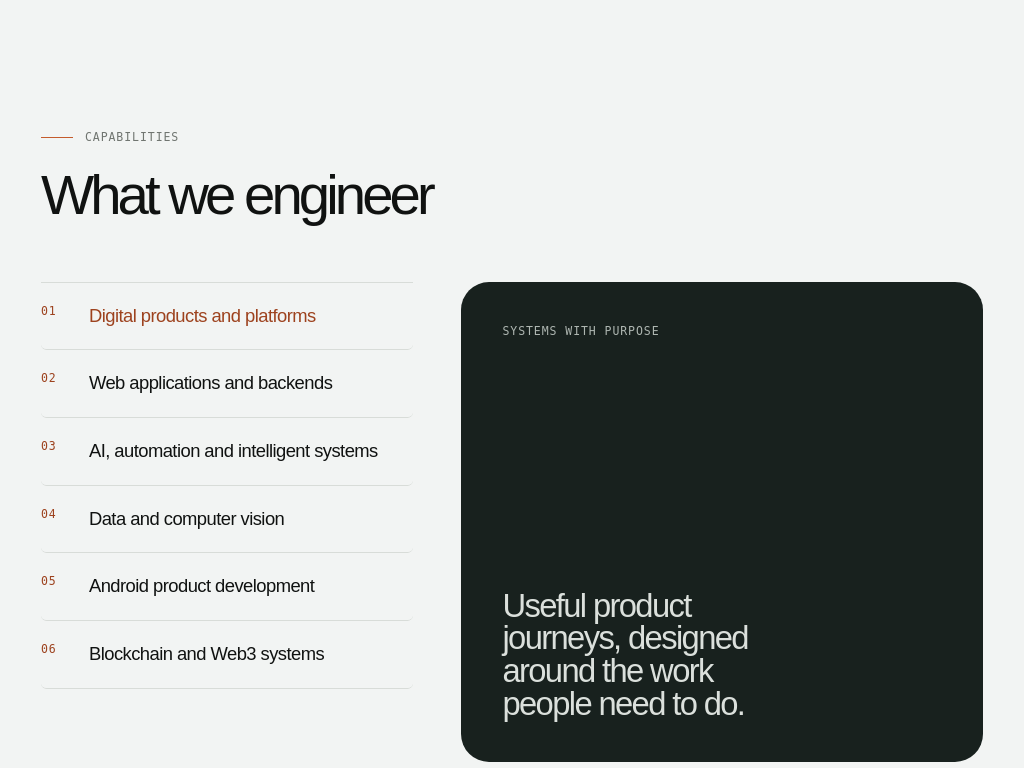
Test case: PublicHomePage UI › keeps capability selection accessible
The image size is (1024, 768).
(page scrolled)
Click the tab "02 Web applications and backends".
click(227, 384)  # box [41,350,414,418]
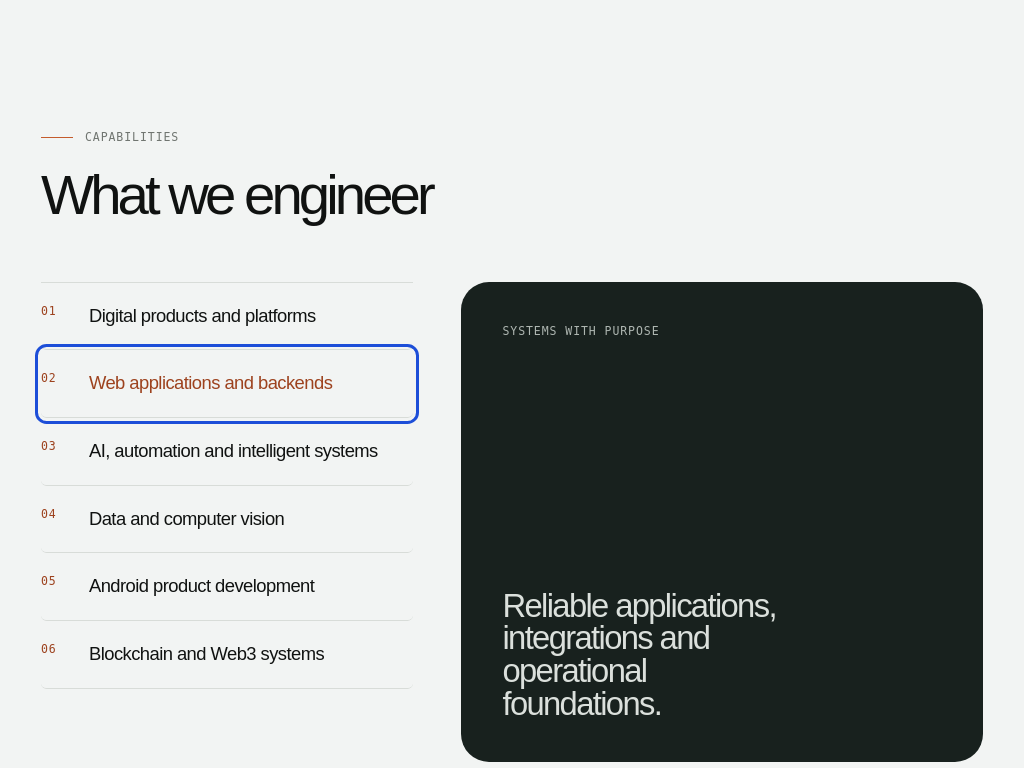
Expected: the panel shows "Reliable applications", [502,587,776,722]
